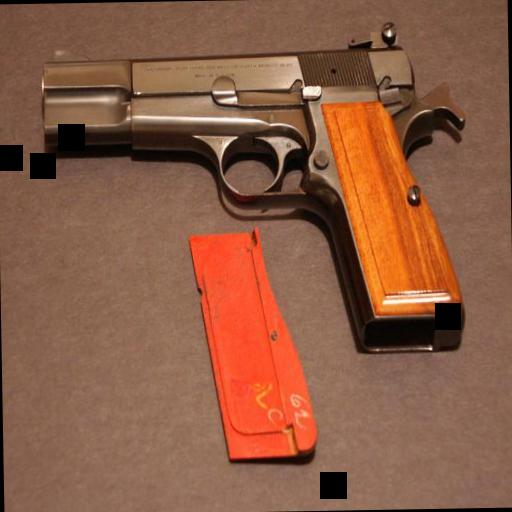Handgun: (36, 20, 474, 380)
